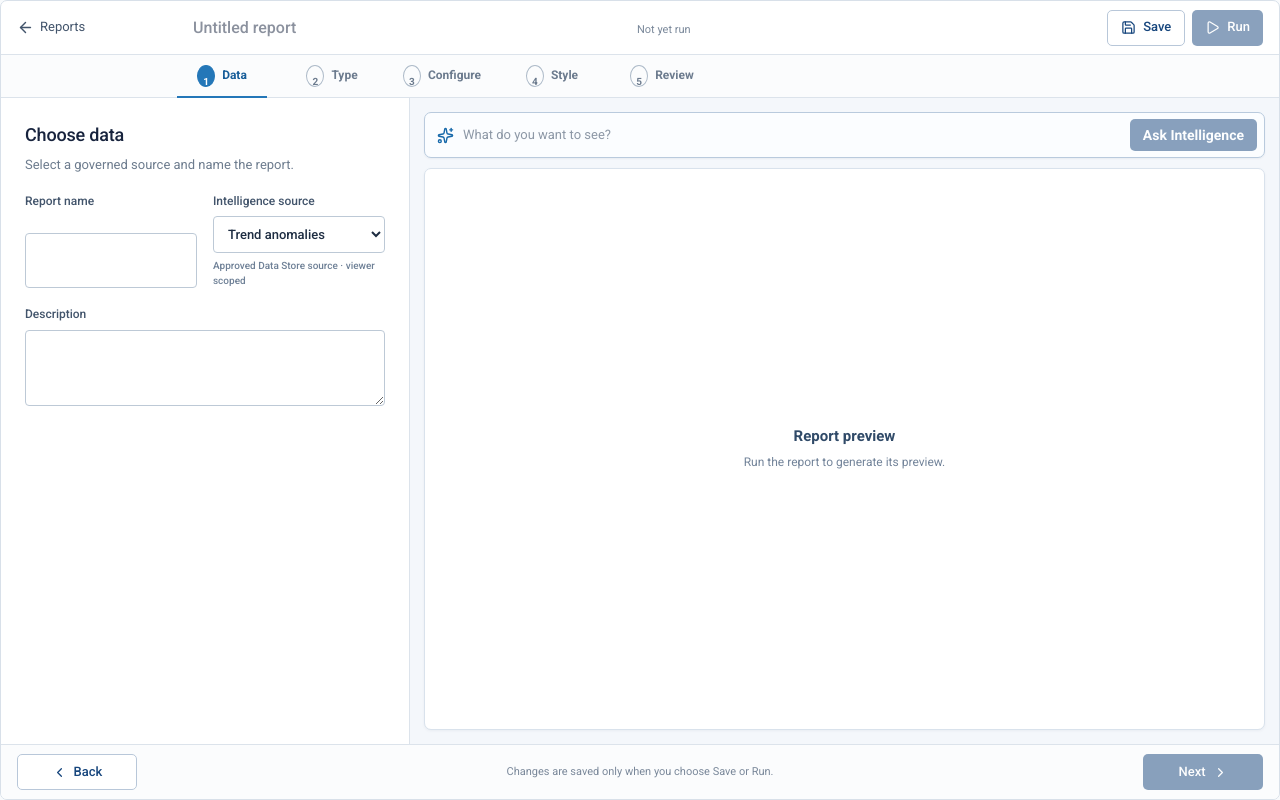
Test: keeps the report preview beside every authoring step
Expected: the element named "Report preview workspace" is shown, [410, 98, 1279, 744]
Expected: the field named "Ask Intelligence" is shown, [463, 126, 1121, 144]
Step 1. Type "Hourly FIR pattern" into the field labelled "Report name" → (111, 261), box [25, 233, 197, 288]
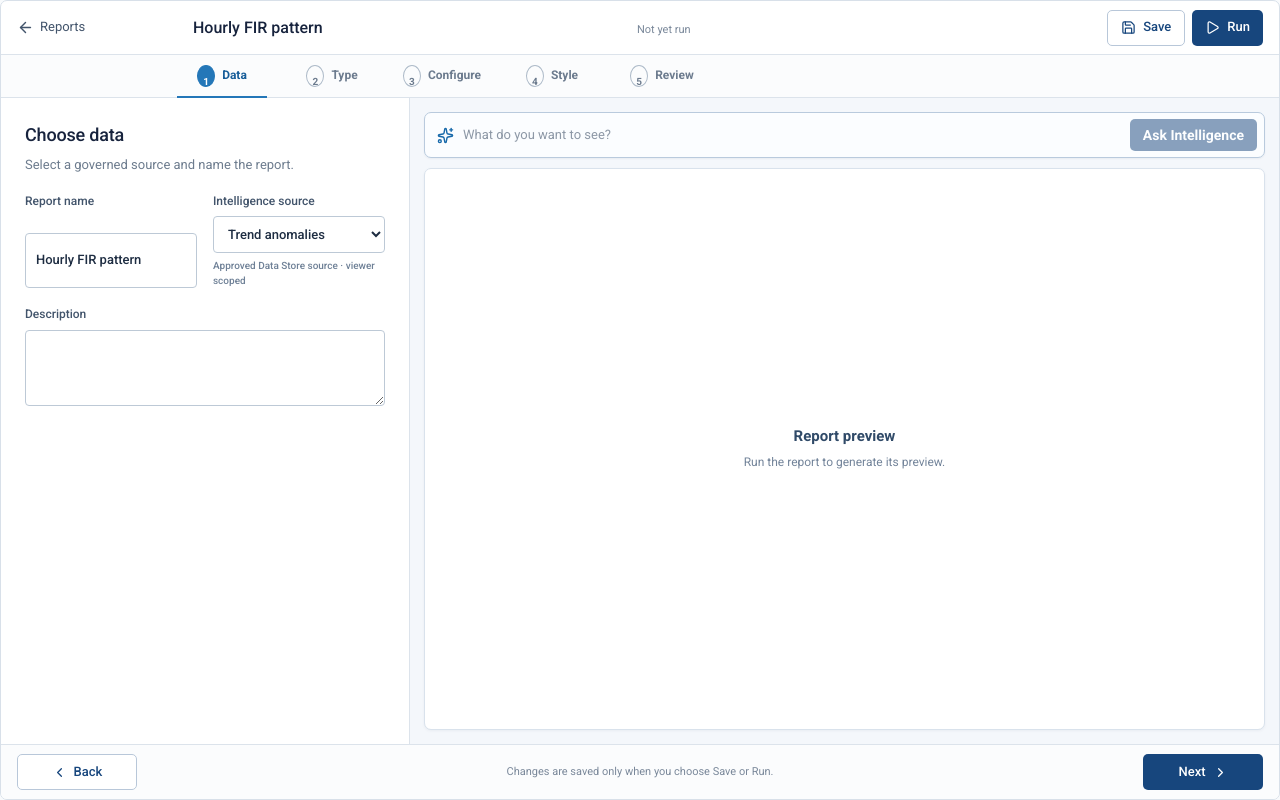
Step 2. Click the button "Next" → (1203, 772), box [1143, 754, 1263, 790]
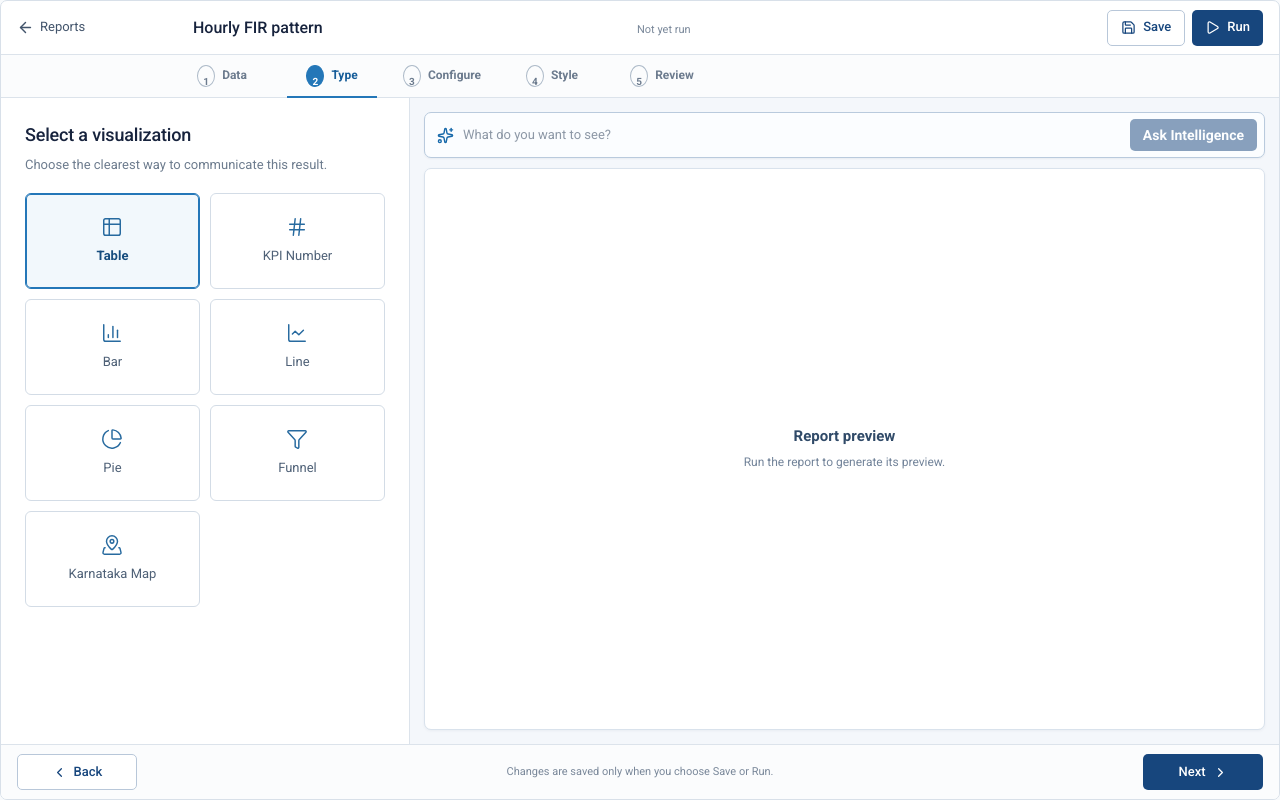
Expected: the element named "Report preview workspace" is shown, [410, 98, 1279, 744]
Expected: the heading "Select a visualization" is shown, [25, 124, 191, 145]
